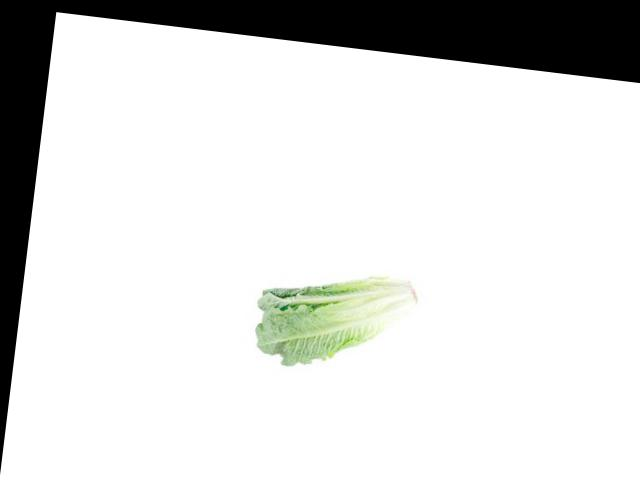lettuce: (212, 270, 380, 420)
